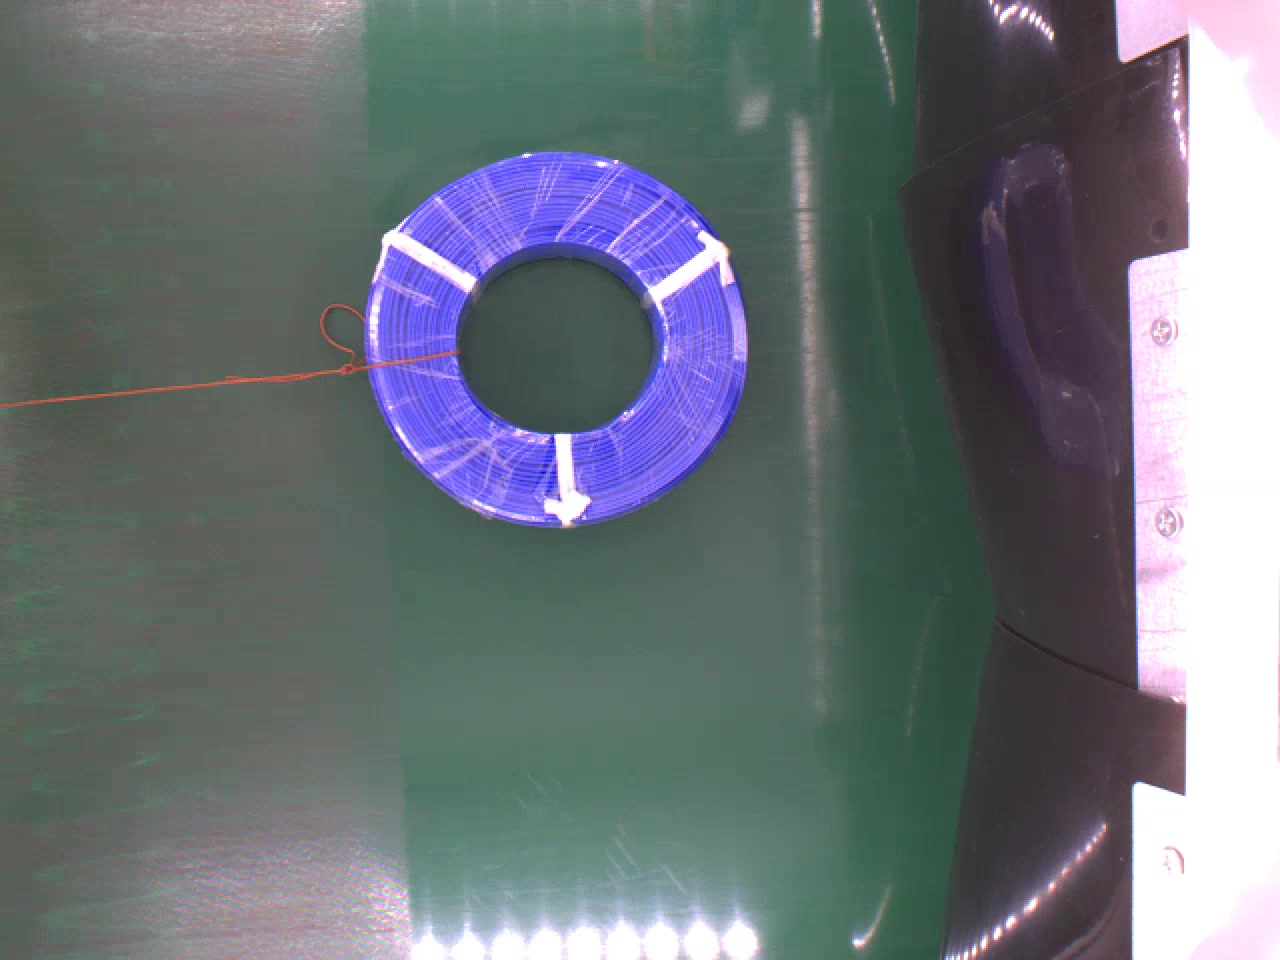blue: (361, 145, 759, 538)
